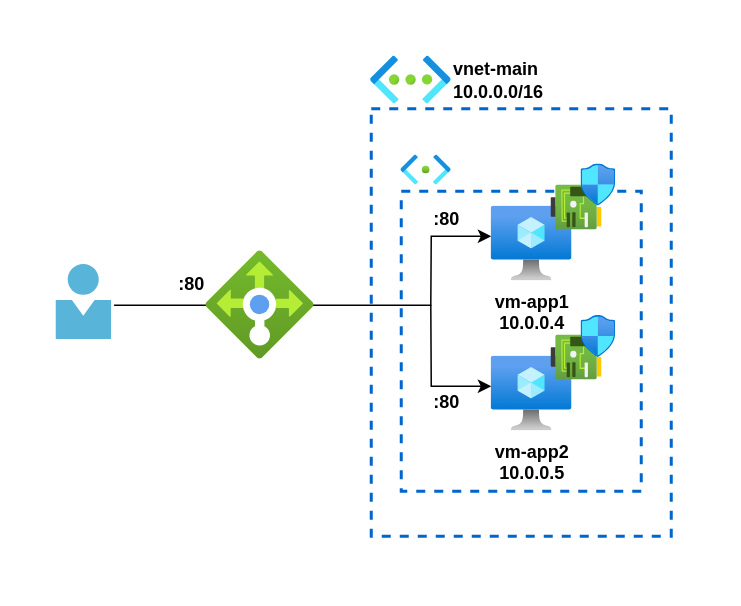
Image size: 741x606. Some labels were removed from this diagram. The shapes that lost their labels are listed below. From the top down, each one's box as (x1, y1, x2, y2) in pixels, then its label:
(400, 154, 451, 184): default 10.0.0.0/24
(206, 250, 314, 358): Azure Load Balancer lb-main
